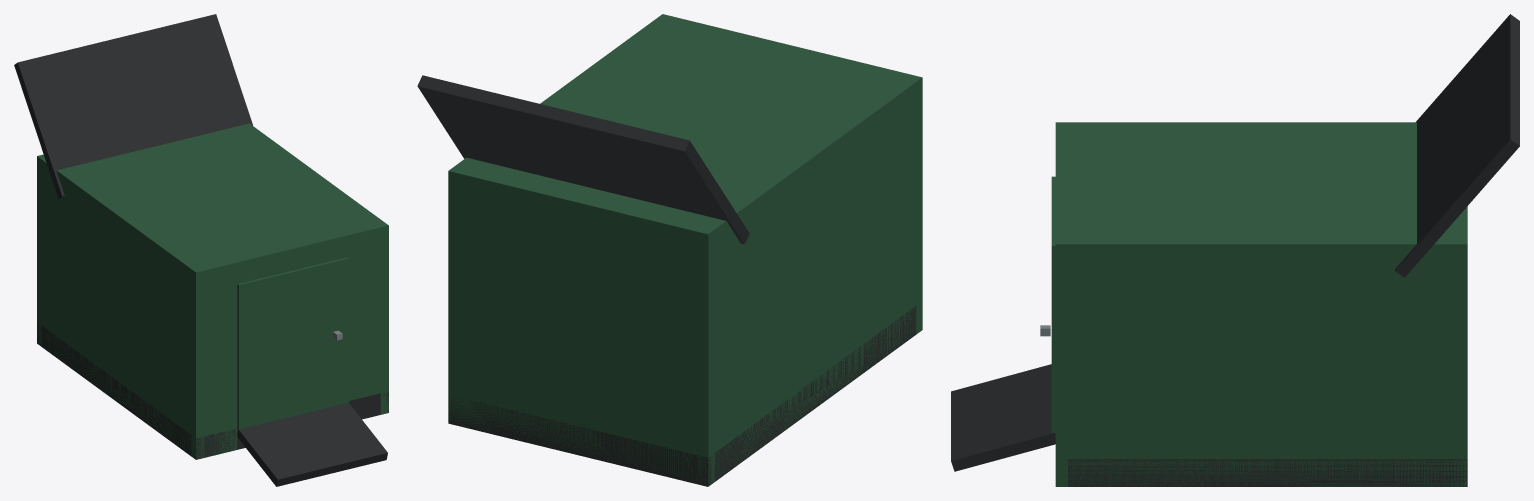
The model's file is dumpster_hideout.glb.
The picture shows the model from 3 angles, left to right: view 1: azimuth 30°, elevation 25°; view 2: azimuth 150°, elevation 25°; view 3: azimuth 270°, elevation 25°; orthographic projection. The views are drawn at different scales.
Parts seen in each view (by area): view 1: Shell, Dressing, Door_L; view 2: Shell, Dressing; view 3: Shell, Dressing, Door_L.
Part boxes in pixels (x1,y1,x2,y2): Shell: (37,123,388,486); Dressing: (14,14,252,198); Door_L: (237,257,349,429); Shell: (448,14,922,486); Dressing: (417,75,749,244); Shell: (951,122,1467,486); Dressing: (1395,14,1519,277); Door_L: (1040,176,1055,432).
Bounding box in the file's own units: 1.44 × 1.93 × 2.76.
